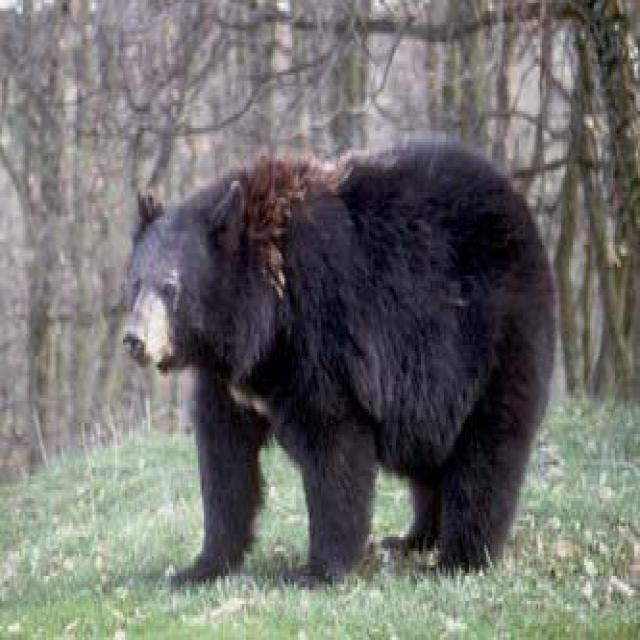Bear: (125, 136, 561, 587)
